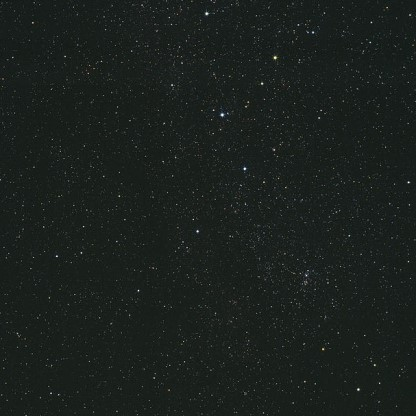Cassiopeia: (254, 50, 283, 89), (231, 154, 252, 184), (186, 218, 209, 244), (208, 103, 233, 124), (195, 5, 218, 26)
